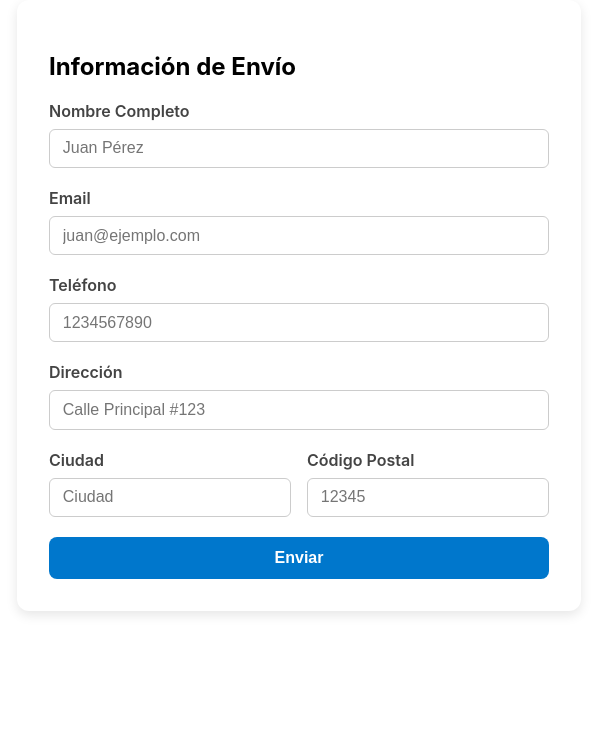
Test case: DeliveryForm Component › shows validation error for invalid phone number
Type "12345" into the field labelled "Teléfono" at (299, 323), box [49,303,549,342]
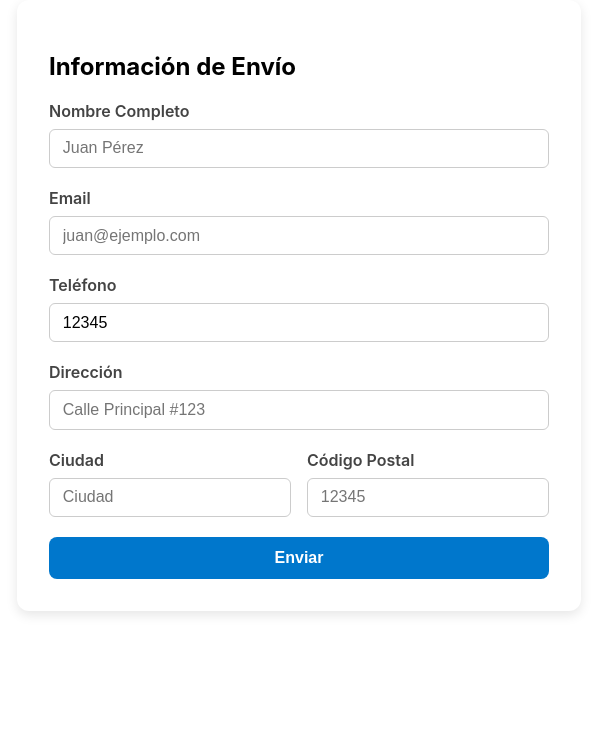
Click the button "Enviar" at (299, 558), box [49,537,549,579]
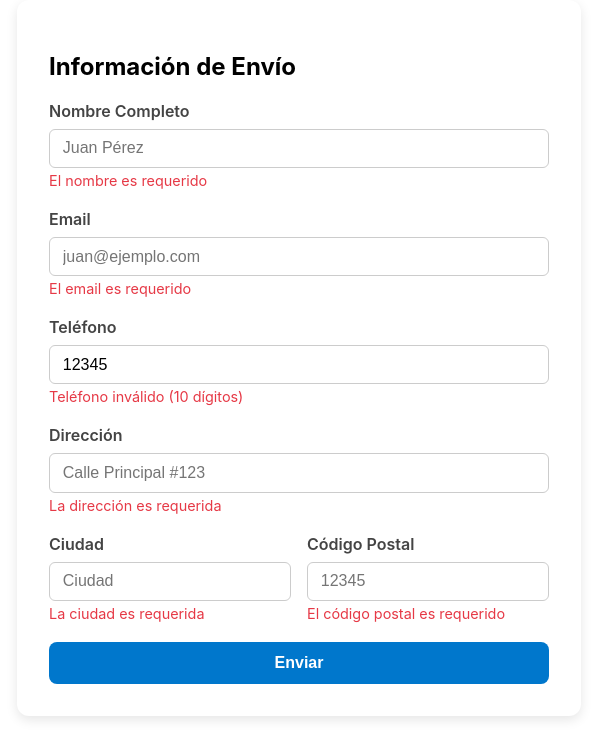
Now the text "Teléfono inválido (10 dígitos)" is shown, box [49,388,243,405]
